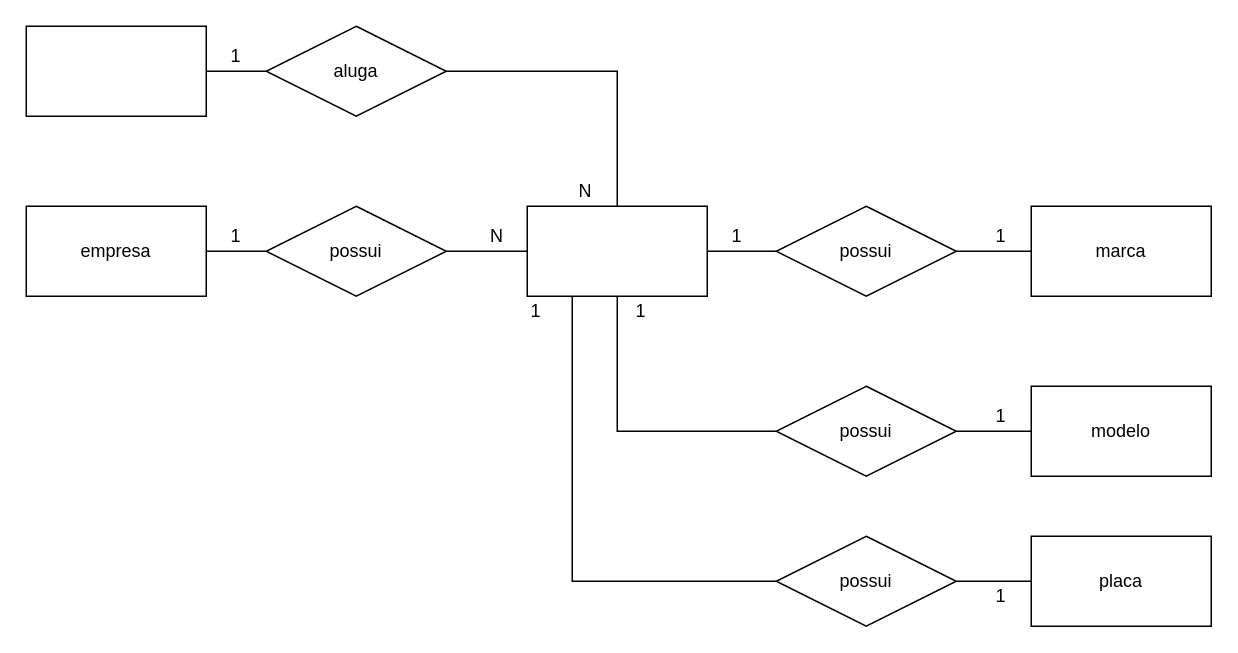
Image size: 1238x653. Some labels were removed from this diagram. Each missing label, with the box of its shape:
cliente: (25, 25, 206, 116)
veiculos: (526, 205, 707, 296)
